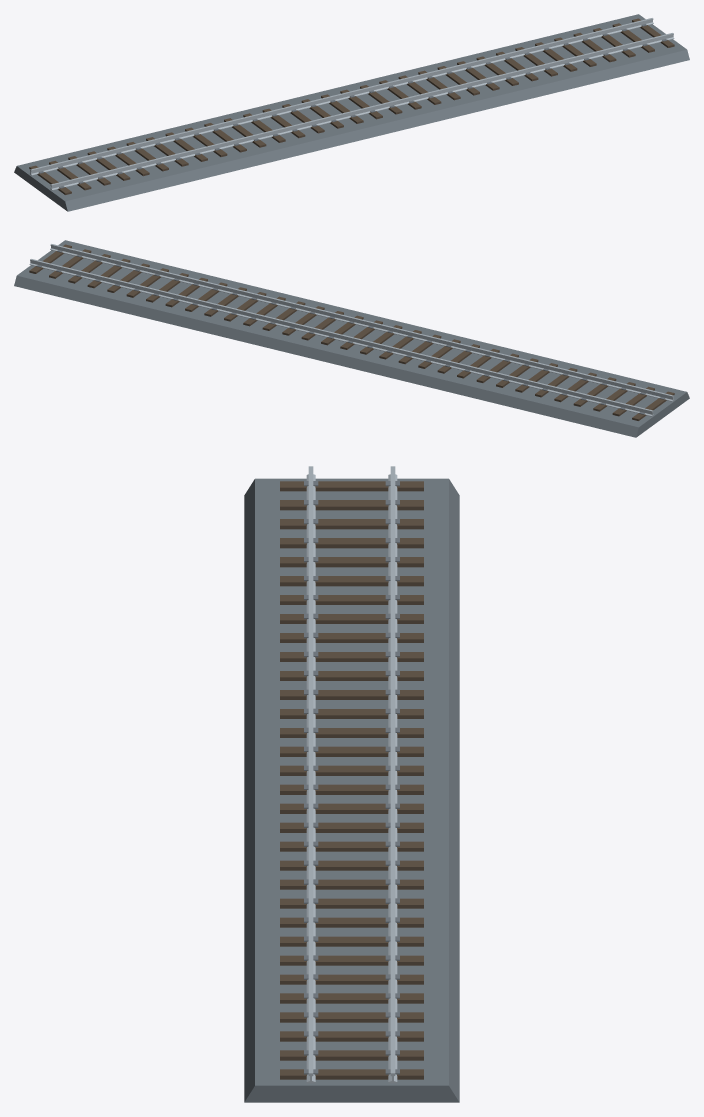
The model's file is straight_long.glb.
3 views of the same model, one above another, from view 1: azimuth 30°, elevation 25°; view 2: azimuth 150°, elevation 25°; view 3: azimuth 270°, elevation 25° (orthographic). The views are drawn at different scales.
Visible parts, largest first — view 1: Bed, Rail_0_1, Rail_0_-1; view 2: Bed, Rail_0_-1, Rail_0_1; view 3: Bed, Rail_0_1, Rail_0_-1, Sleeper_0_27, Sleeper_0_28, Sleeper_0_29, Sleeper_0_30, Sleeper_0_31, Sleeper_0_0, Sleeper_0_1, Sleeper_0_2, Sleeper_0_3 (+23 smaller).
Part boxes in pixels (x1,y1,x2,y2): Bed: (14, 14, 689, 211); Rail_0_1: (30, 18, 653, 175); Rail_0_-1: (50, 33, 674, 190); Bed: (14, 240, 689, 437); Rail_0_-1: (50, 244, 673, 401); Rail_0_1: (29, 259, 653, 416); Bed: (244, 478, 459, 1102); Rail_0_1: (388, 466, 397, 1083); Rail_0_-1: (306, 466, 315, 1083); Sleeper_0_27: (280, 993, 423, 1003); Sleeper_0_28: (280, 1012, 423, 1022); Sleeper_0_29: (280, 1031, 423, 1041); Sleeper_0_30: (280, 1050, 423, 1060); Sleeper_0_31: (280, 1069, 423, 1079); Sleeper_0_0: (280, 481, 423, 491); Sleeper_0_1: (280, 500, 423, 510); Sleeper_0_2: (280, 519, 423, 529); Sleeper_0_3: (280, 538, 423, 548).
Size of the model in its own units: 20 by 0.45 by 3.
